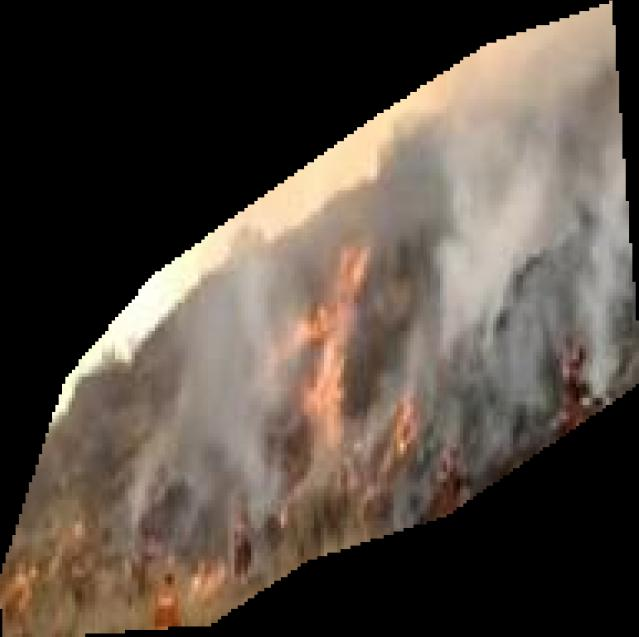fire: (1, 0, 639, 637)
